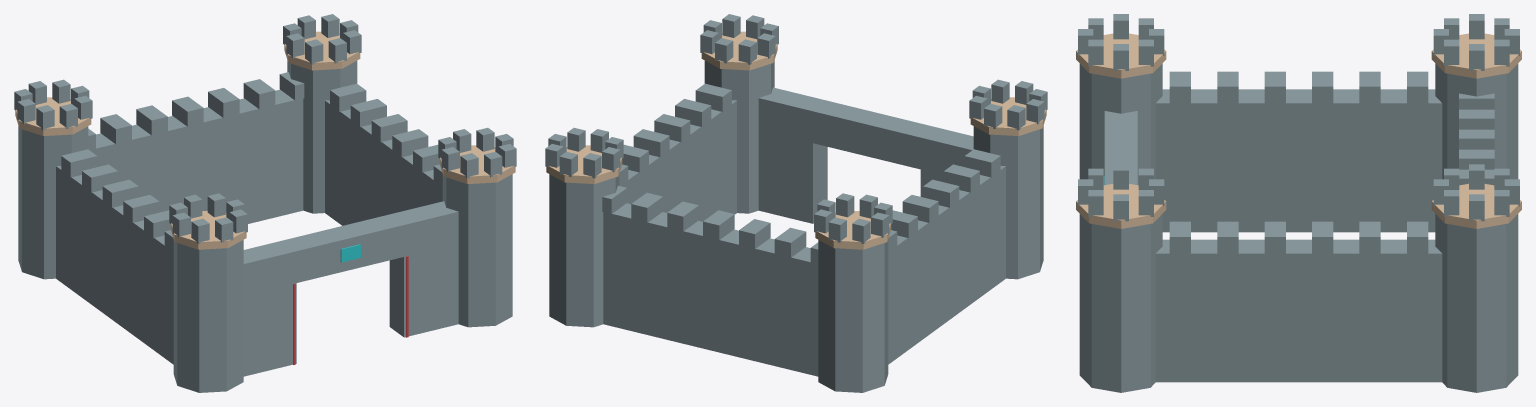
File: Fort.fbx
3 views of the same model, side by side, from view 1: azimuth 30°, elevation 25°; view 2: azimuth 150°, elevation 25°; view 3: azimuth 270°, elevation 25° (orthographic). The views are drawn at different scales.
Visible parts, largest first — view 1: Fort_RenderMesh; view 2: Fort_RenderMesh; view 3: Fort_RenderMesh.
Part boxes in pixels (x1,y1,x2,y2): Fort_RenderMesh: [14, 14, 516, 392]; Fort_RenderMesh: [545, 14, 1047, 392]; Fort_RenderMesh: [1076, 14, 1521, 392].
Size of the model in its own units: 18.8 by 8.98 by 18.8.
